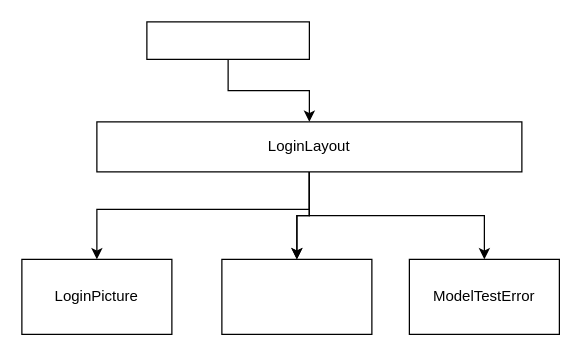
This 581x356 diagram has some shape labels left out. The box of each missing label's shape, as (x1, y1, x2, y2) in pixels:
LoginForm: (221, 258, 372, 334)
LoginPage: (146, 21, 309, 59)
